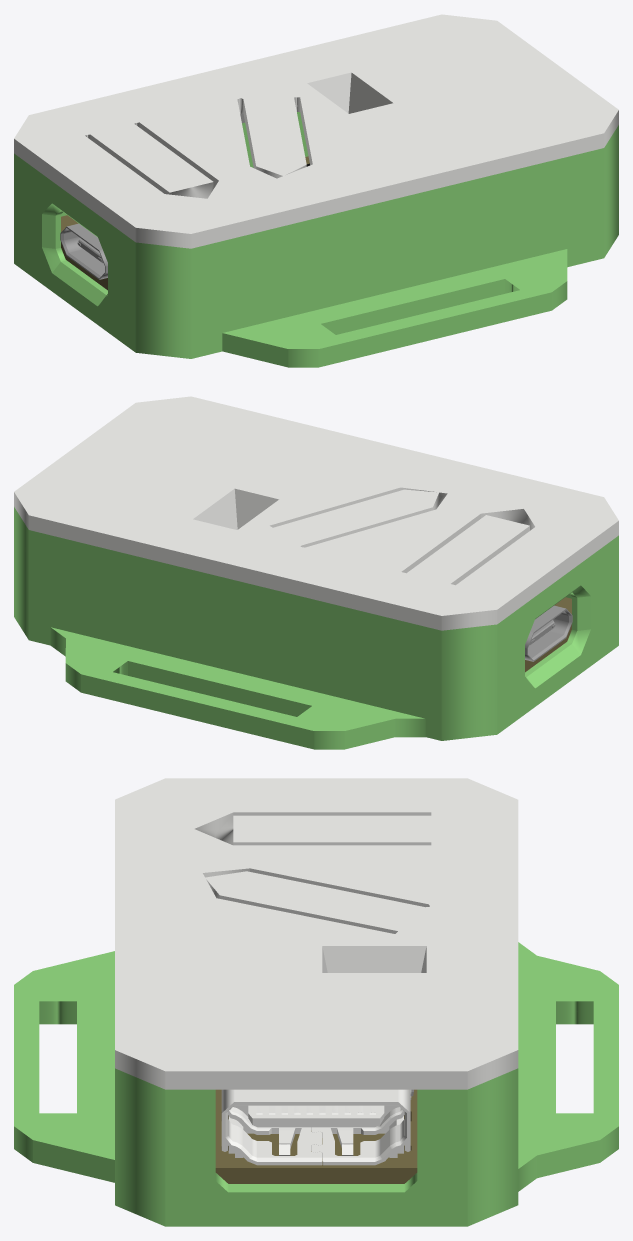
The model's file is ada-6241.glb.
3 views of the same model, one above another, from view 1: azimuth 30°, elevation 25°; view 2: azimuth 150°, elevation 25°; view 3: azimuth 270°, elevation 25° (orthographic). The views are drawn at different scales.
Visible parts, largest first — view 1: 0.9166666666666666_0.9166666666666666_0.9166666666666666_0.8, 0.25_0.75_0.16666666666666666_0, 0.3333333333333333_0.3333333333333333_0.3333333333333333_0; view 2: 0.9166666666666666_0.9166666666666666_0.9166666666666666_0.8, 0.25_0.75_0.16666666666666666_0, 0.3333333333333333_0.3333333333333333_0.3333333333333333_0; view 3: 0.9166666666666666_0.9166666666666666_0.9166666666666666_0.8, 0.25_0.75_0.16666666666666666_0, 0.16666666666666666_0.16666666666666666_0.08333333333333333_.
Boxes of the visible parts, <box> form: 0.9166666666666666_0.9166666666666666_0.9166666666666666_0.8: <box>14,14,618,248</box>; 0.25_0.75_0.16666666666666666_0: <box>14,112,618,367</box>; 0.3333333333333333_0.3333333333333333_0.3333333333333333_0: <box>60,223,107,279</box>; 0.9166666666666666_0.9166666666666666_0.9166666666666666_0.8: <box>14,396,618,630</box>; 0.25_0.75_0.16666666666666666_0: <box>14,507,618,749</box>; 0.3333333333333333_0.3333333333333333_0.3333333333333333_0: <box>525,605,572,661</box>; 0.9166666666666666_0.9166666666666666_0.9166666666666666_0.8: <box>115,778,518,1165</box>; 0.25_0.75_0.16666666666666666_0: <box>14,942,618,1226</box>; 0.16666666666666666_0.16666666666666666_0.08333333333333333_: <box>215,1089,417,1183</box>.
Bounding box in the file's own units: 5.5 × 1.36 × 4.8.
